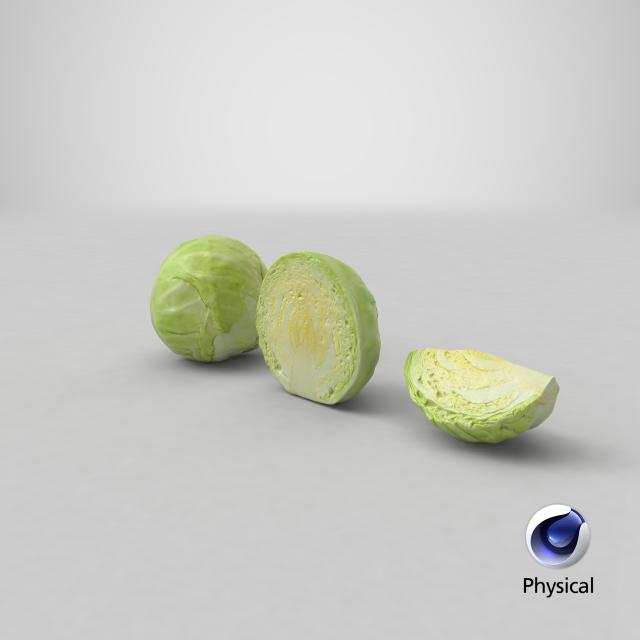cabbage: (150, 236, 267, 368)
haft-cabbage: (252, 251, 384, 406), (402, 345, 559, 449)
